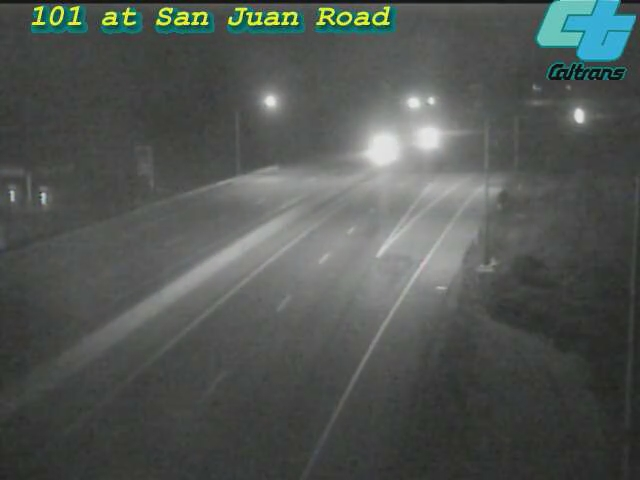vehicle: (350, 123, 400, 173), (398, 112, 448, 162), (555, 90, 605, 140)
